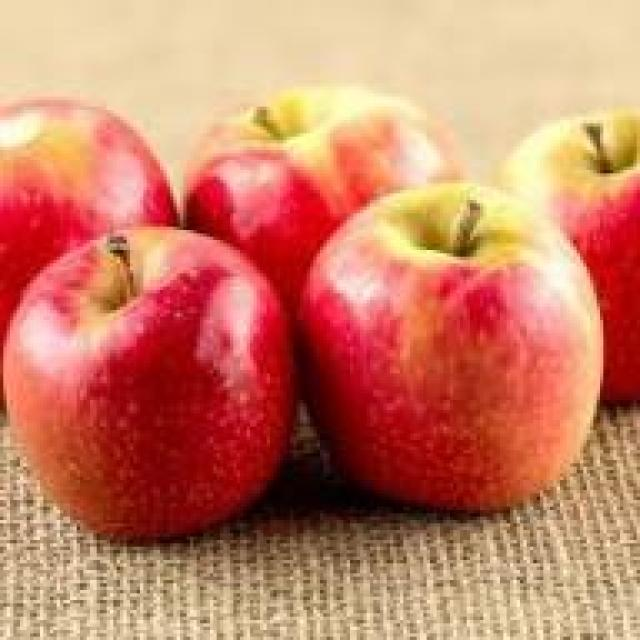apple: (306, 203, 616, 507), (20, 250, 287, 517), (197, 80, 483, 313), (503, 106, 637, 386)
